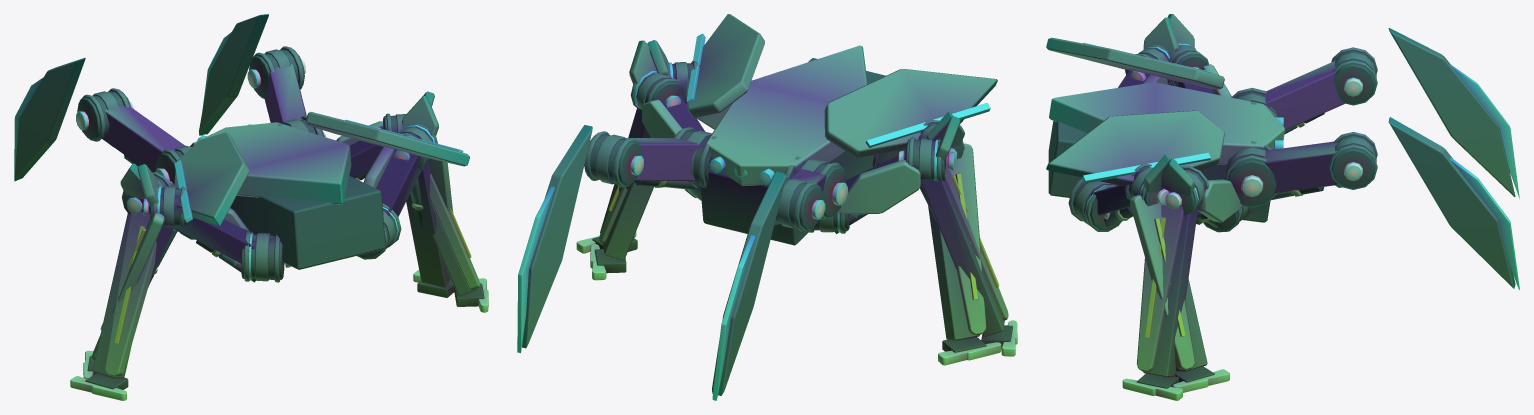
Rendered from mantis.glb.
3 renders of one model, left to right at view 1: azimuth 30°, elevation 25°; view 2: azimuth 150°, elevation 25°; view 3: azimuth 270°, elevation 25°, orthographic. The views are drawn at different scales.
Visible parts, largest first — view 1: Body__dark, Body__armor, Scythe_0__gunmetal, Scythe_1__gunmetal, Wing_0__armor_sub, Hip_0_Knee__armor, Hip_3_Knee__gunmetal, Scythe_0__armor_sub, Wing_1__armor_sub, Hip_2__dark, Hip_3__dark, Scythe_1__armor_sub (+23 smaller); view 2: Body__armor, Wing_0__armor_sub, Scythe_1__gunmetal, Scythe_0__gunmetal, Wing_1__armor_sub, Body__dark, Hip_0_Knee__gunmetal, Hip_0__armor, Hip_2_Knee__gunmetal, Hip_2_Knee__armor, Scythe_1__armor_sub, Hip_3_Knee__gunmetal (+25 smaller); view 3: Body__armor, Wing_1__armor_sub, Scythe_1__gunmetal, Scythe_0__gunmetal, Hip_1_Knee__gunmetal, Scythe_0__armor_sub, Wing_0__armor_sub, Hip_1_Knee__armor, Scythe_1__armor_sub, Hip_3_Knee__armor, Scythe_1__dark, Body__dark (+17 smaller).
Boxes of the visible parts, box(x1,y1,x2,y2) form: Body__dark: box(230, 175, 385, 269); Body__armor: box(192, 122, 351, 204); Scythe_0__gunmetal: box(14, 58, 193, 180); Scythe_1__gunmetal: box(199, 14, 323, 136); Wing_0__armor_sub: box(174, 132, 249, 225); Hip_0_Knee__armor: box(105, 211, 156, 376); Hip_3_Knee__gunmetal: box(398, 123, 450, 287); Scythe_0__armor_sub: box(102, 105, 184, 172); Wing_1__armor_sub: box(305, 112, 469, 166); Hip_2__dark: box(173, 218, 284, 282); Hip_3__dark: box(358, 150, 422, 258); Scythe_1__armor_sub: box(264, 64, 306, 123); Body__armor: box(705, 45, 867, 185); Wing_0__armor_sub: box(824, 69, 997, 157); Scythe_1__gunmetal: box(522, 125, 717, 348); Scythe_0__gunmetal: box(712, 156, 844, 395); Wing_1__armor_sub: box(685, 14, 764, 117); Body__dark: box(700, 58, 885, 245); Hip_0_Knee__gunmetal: box(908, 137, 1004, 336); Hip_0__armor: box(836, 160, 920, 214); Hip_2_Knee__gunmetal: box(918, 120, 979, 340); Hip_2_Knee__armor: box(950, 143, 986, 335); Scythe_1__armor_sub: box(625, 138, 699, 180); Hip_3_Knee__gunmetal: box(603, 61, 697, 260); Body__armor: box(1049, 82, 1285, 164); Wing_1__armor_sub: box(1046, 110, 1224, 186); Scythe_1__gunmetal: box(1224, 117, 1515, 288); Scythe_0__gunmetal: box(1231, 28, 1515, 196); Hip_1_Knee__gunmetal: box(1143, 166, 1208, 377); Scythe_0__armor_sub: box(1262, 60, 1346, 129); Wing_0__armor_sub: box(1046, 37, 1224, 89); Hip_1_Knee__armor: box(1136, 205, 1183, 371); Scythe_1__armor_sub: box(1262, 141, 1338, 193); Hip_3_Knee__armor: box(1130, 195, 1194, 369); Scythe_1__dark: box(1227, 135, 1375, 206); Body__dark: box(1048, 121, 1270, 222).
Size of the model in its own units: 2.14 by 1.1 by 2.1.
